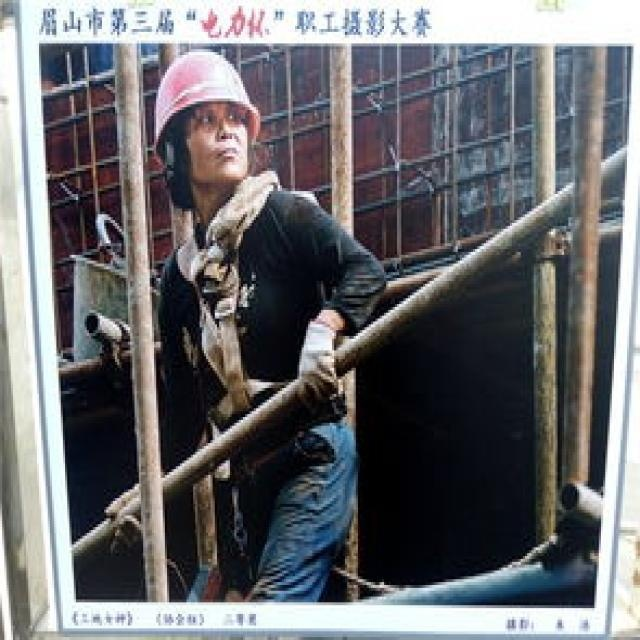Arnes_seguridad: (163, 159, 330, 420)
